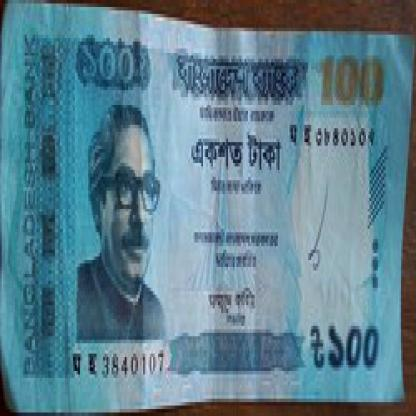one hundred taka: (316, 48, 390, 114), (80, 28, 138, 94), (323, 312, 381, 378)
